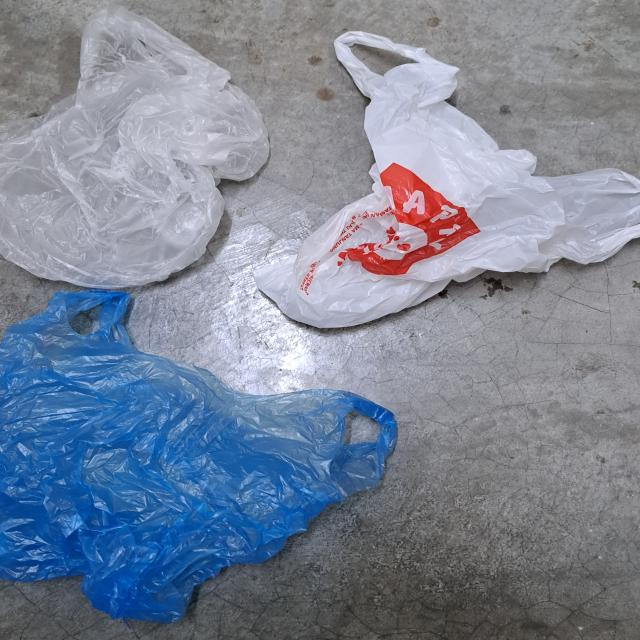plastic bag: (0, 285, 397, 625), (248, 33, 640, 332), (0, 0, 275, 288)
